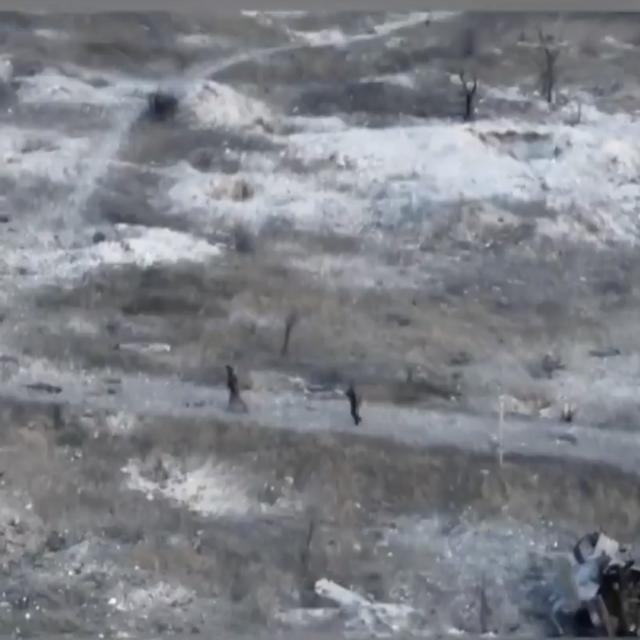infantry: (226, 358, 246, 411), (344, 383, 366, 428)
